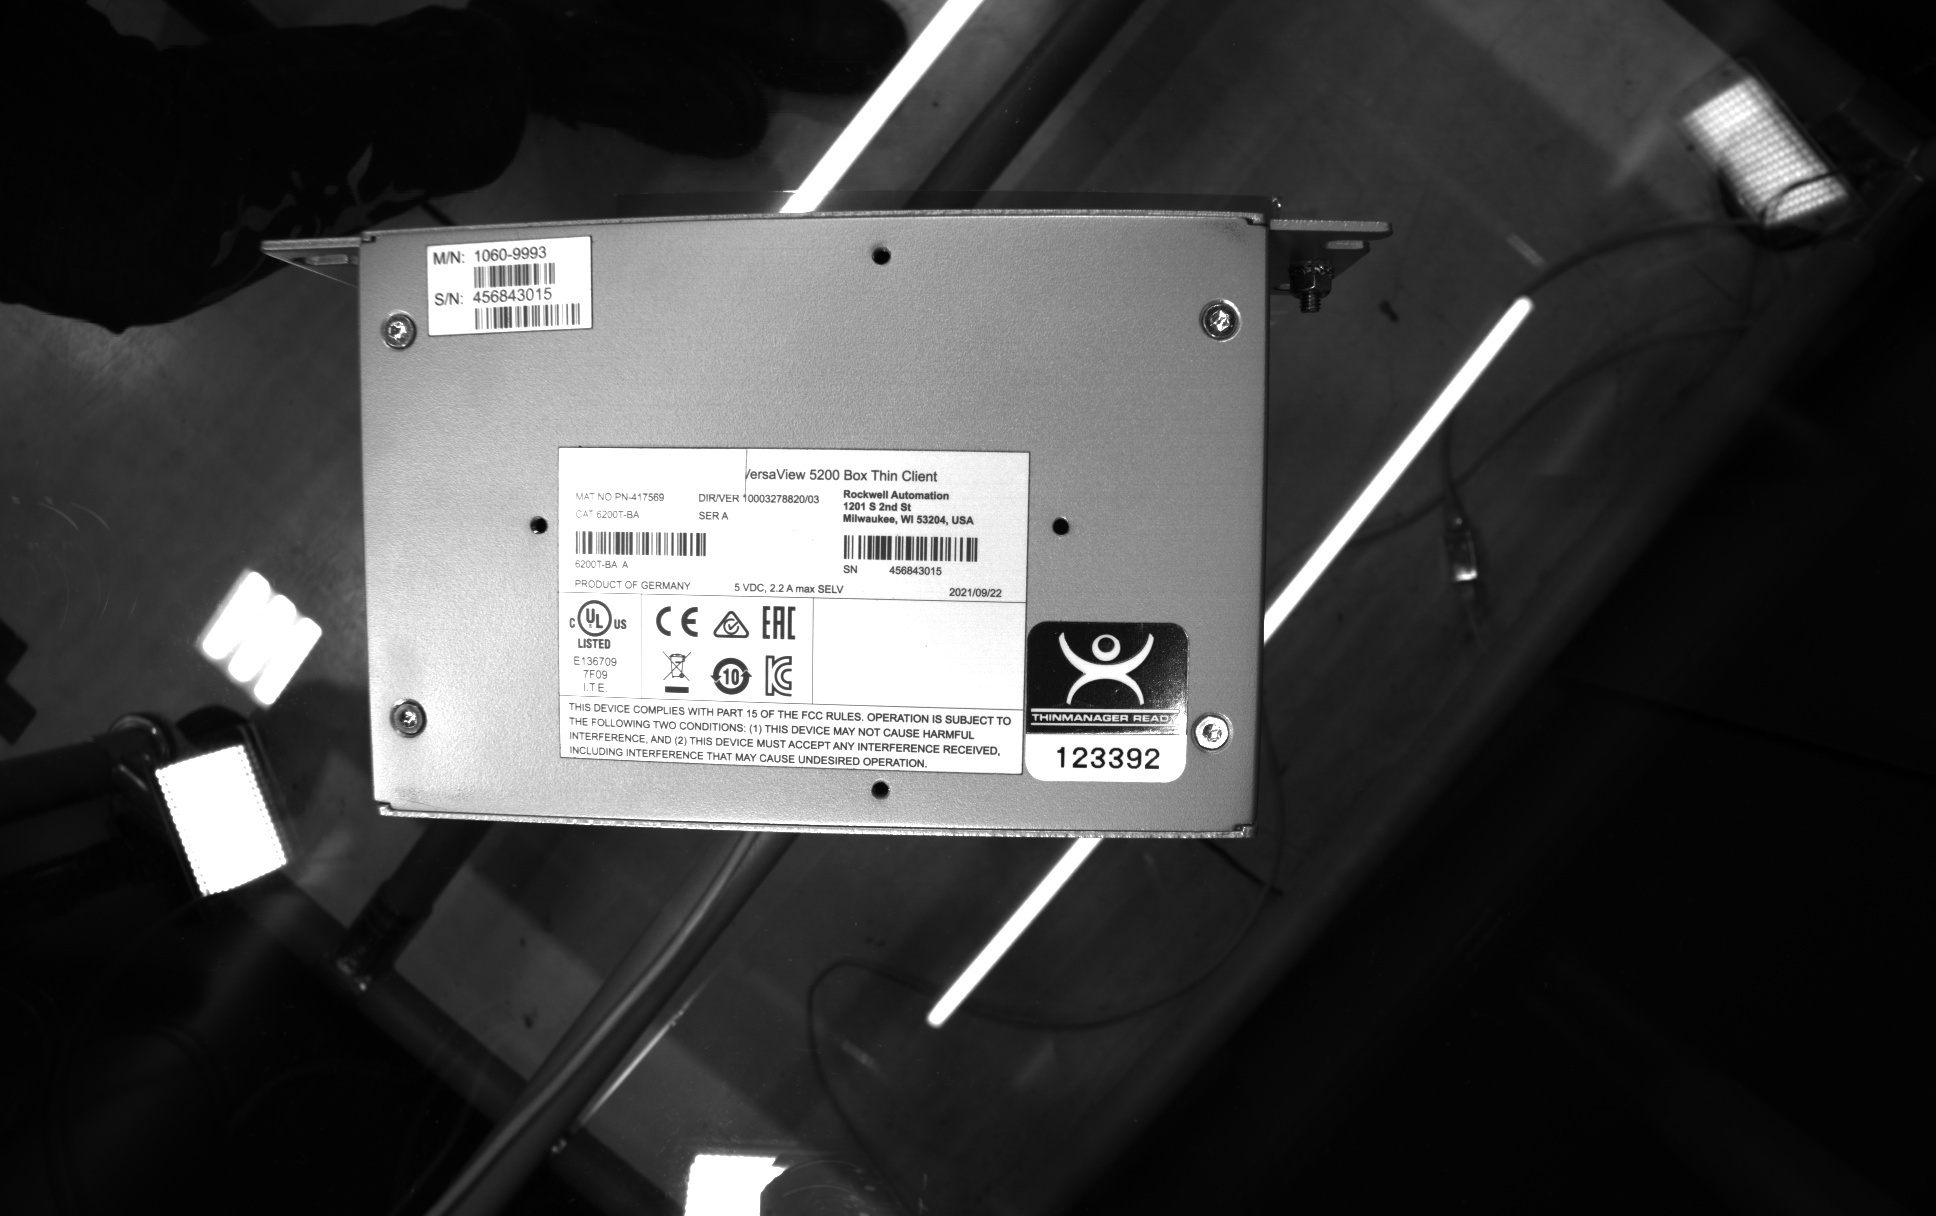Barcode: (829, 528, 985, 567), (465, 297, 588, 339), (567, 527, 713, 560), (465, 258, 560, 296)
CamTop: (340, 195, 1289, 857)
Label_Seriennummer: (544, 430, 1042, 790)
Loch_Montage: (516, 506, 555, 551), (860, 772, 902, 811), (1037, 504, 1076, 545), (859, 235, 899, 270)
Schraube: (1194, 291, 1251, 345), (382, 693, 434, 749), (1189, 705, 1238, 759), (373, 307, 422, 359)
